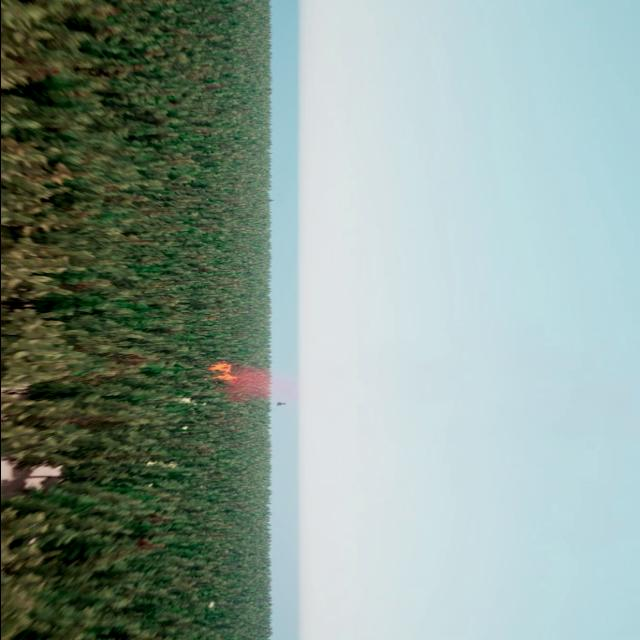fire: (210, 362, 233, 381)
smoke: (216, 372, 286, 402)
